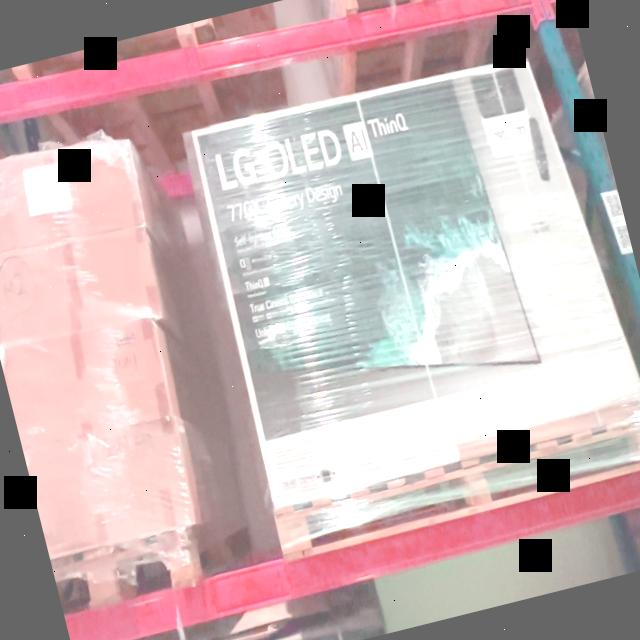box: (195, 61, 617, 503), (0, 141, 143, 252)
